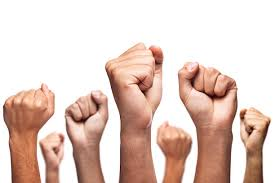fist: (112, 45, 162, 115), (182, 64, 238, 126), (65, 95, 112, 141), (1, 86, 52, 126), (240, 110, 268, 154), (156, 123, 192, 153), (41, 132, 67, 161)
